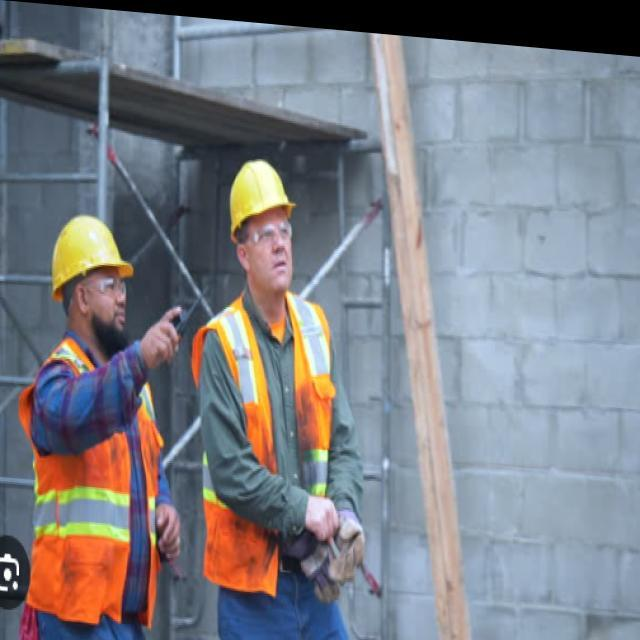helmet: (224, 151, 301, 316), (49, 209, 135, 353)
vest: (190, 282, 336, 608), (16, 330, 166, 636)
